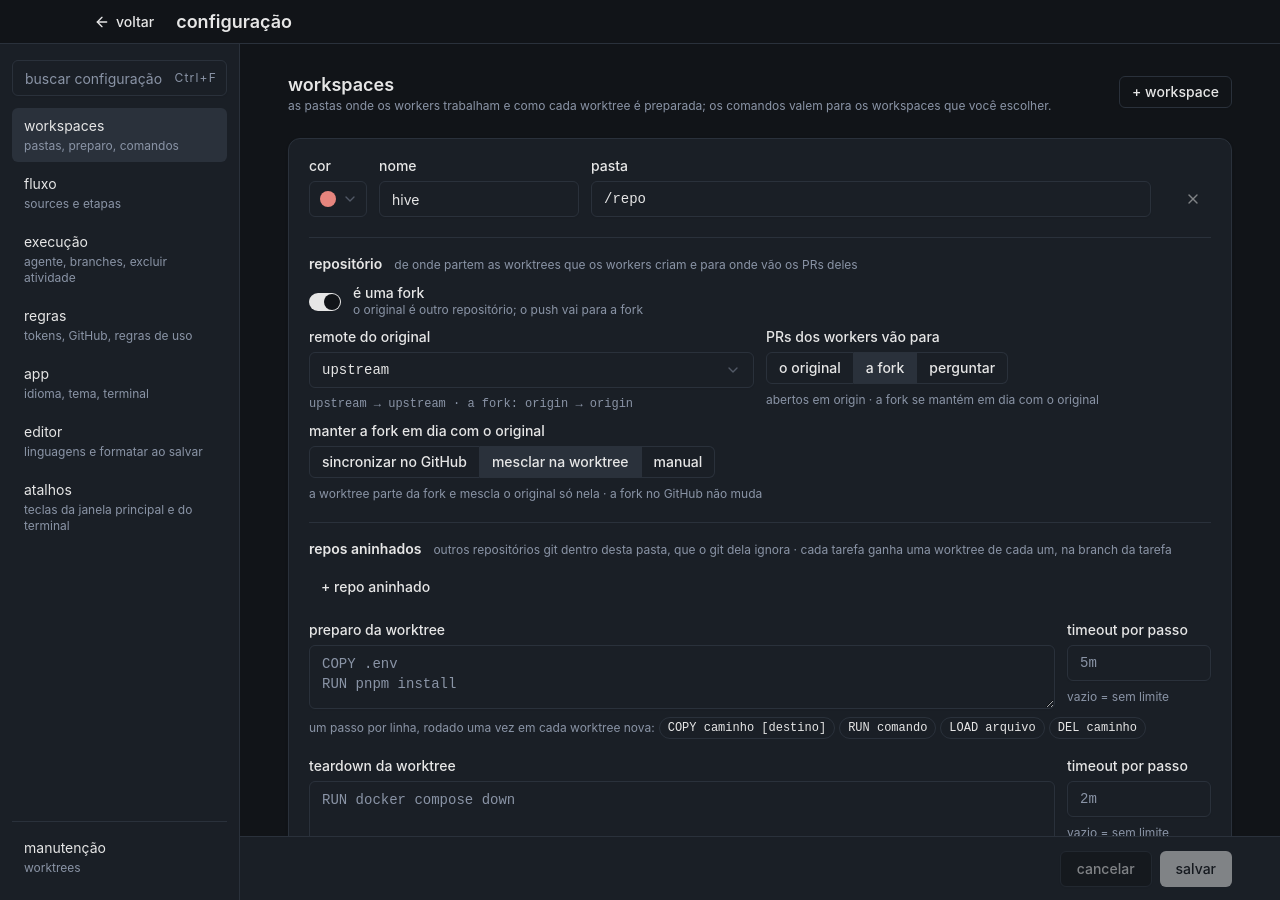
Test: a source's and a stage's entries open that context (#689)
The width and height of the screenshot is (1280, 900).
Type "board" into the dropdown labelled "buscar configuração". click: (120,78)
box: x1=12 y1=60 x2=227 y2=96
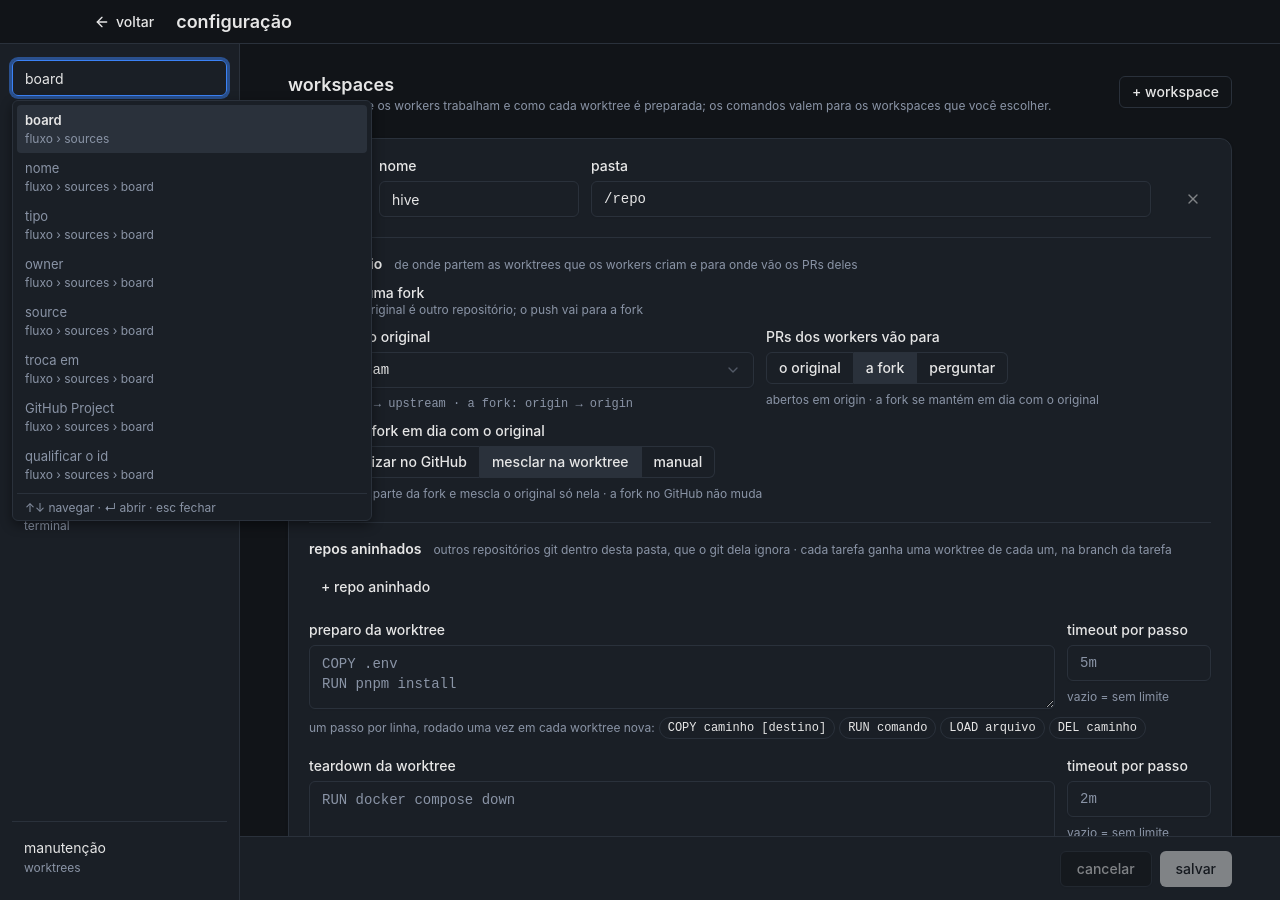
Press Enter
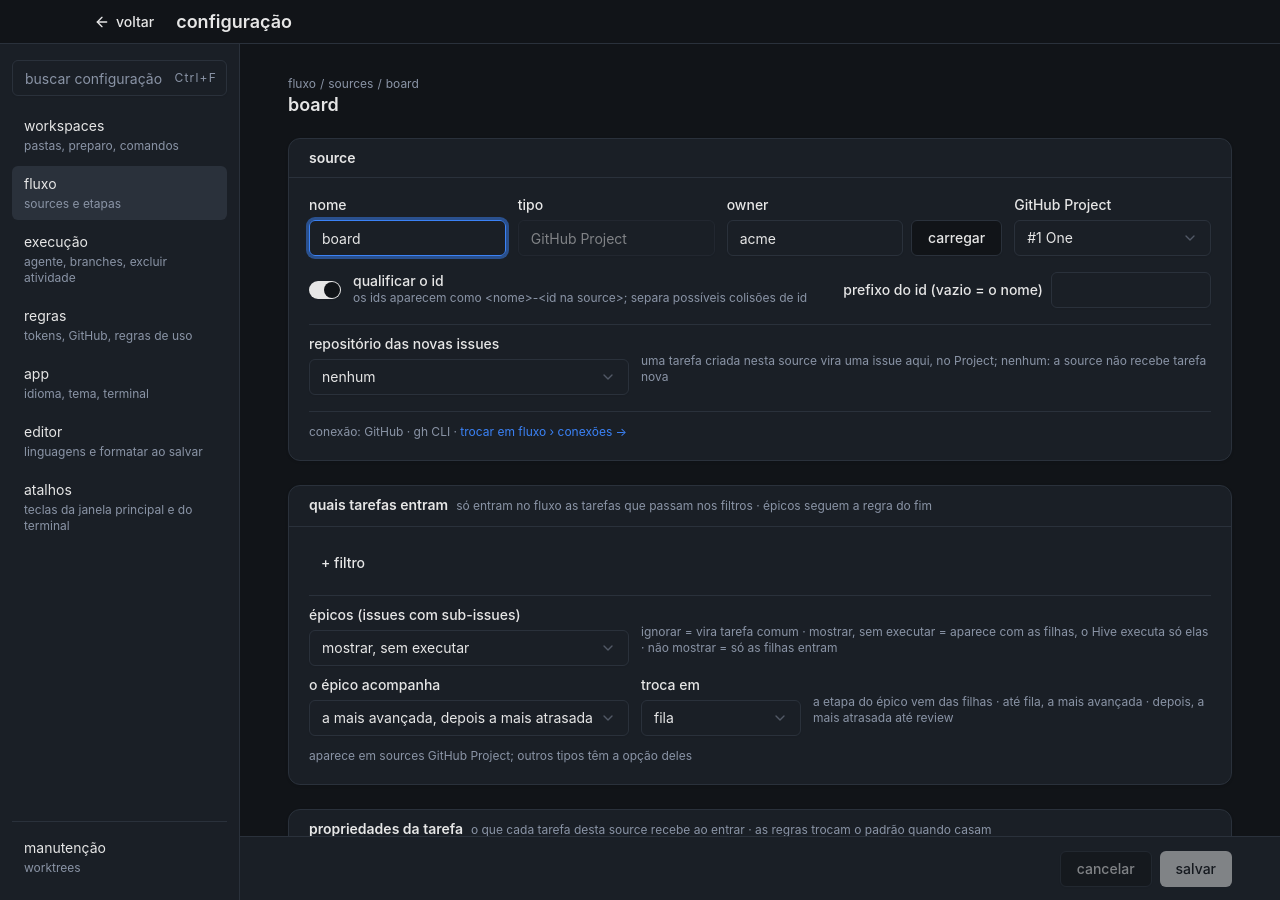
Result: the heading "board" is shown at x1=288 y1=94 x2=339 y2=115
Type "review" into the dropdown labelled "buscar configuração". click: (120,78)
box: x1=12 y1=60 x2=227 y2=96
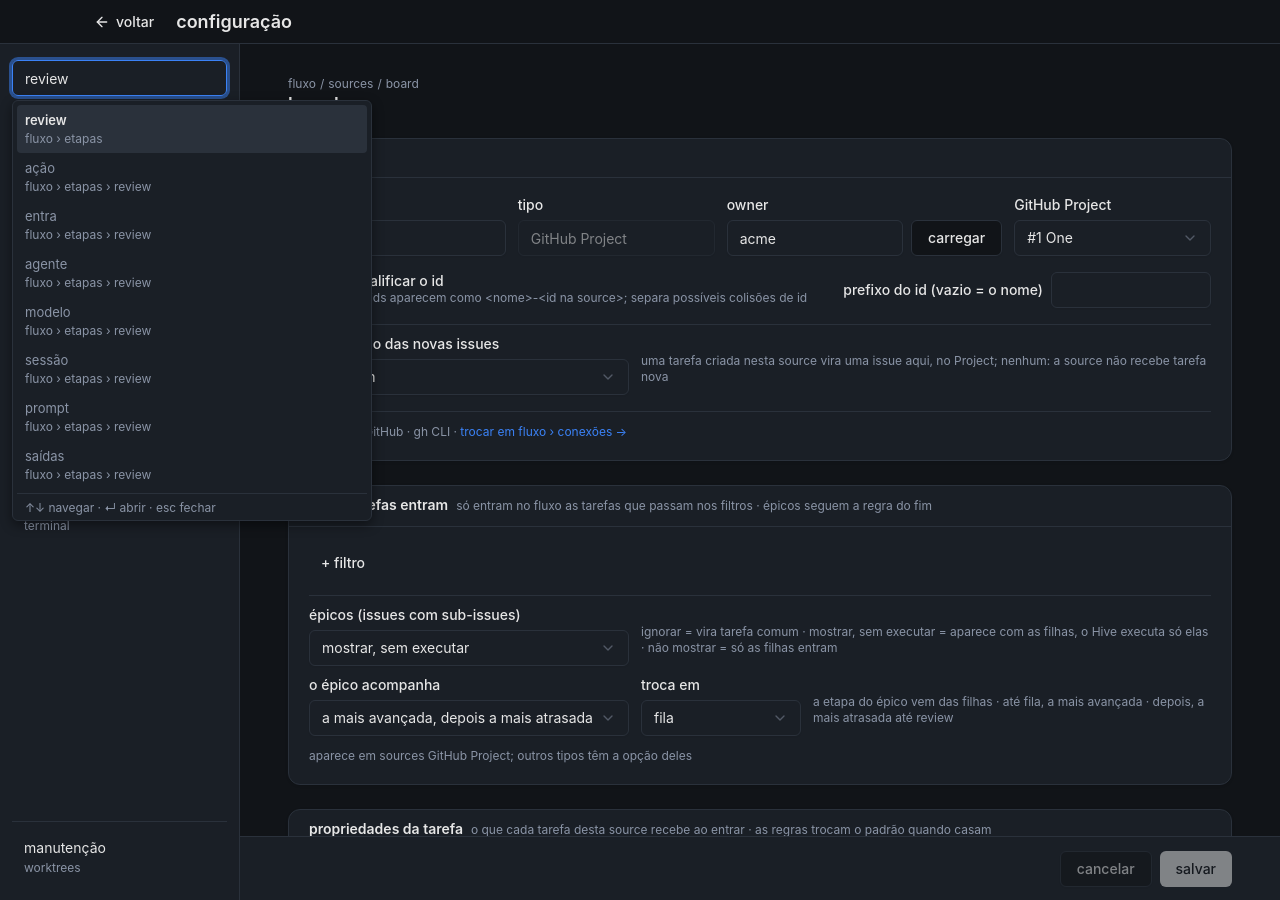
Press Enter
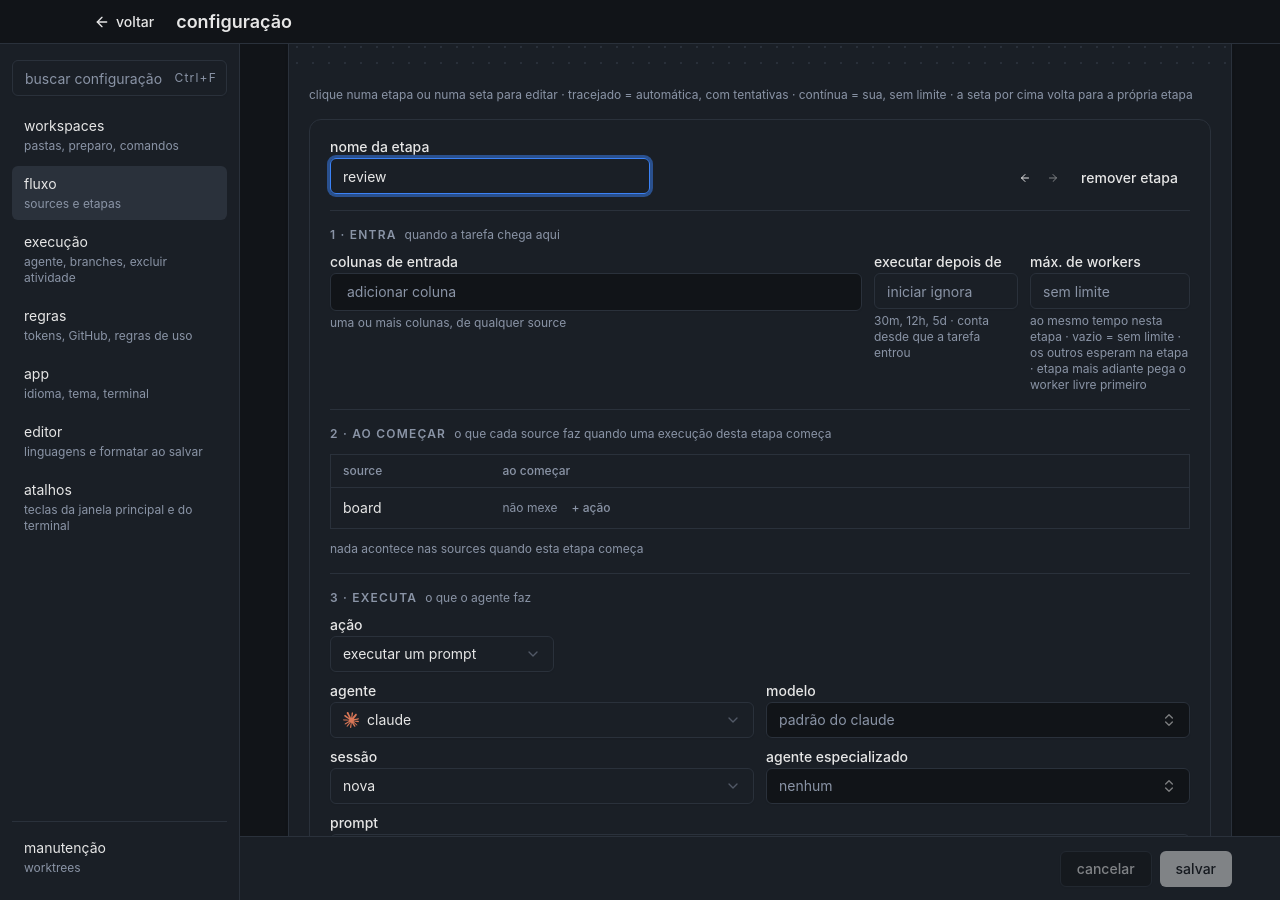
Result: the field labelled "nome da etapa" holds "review" at x1=330 y1=158 x2=650 y2=194
